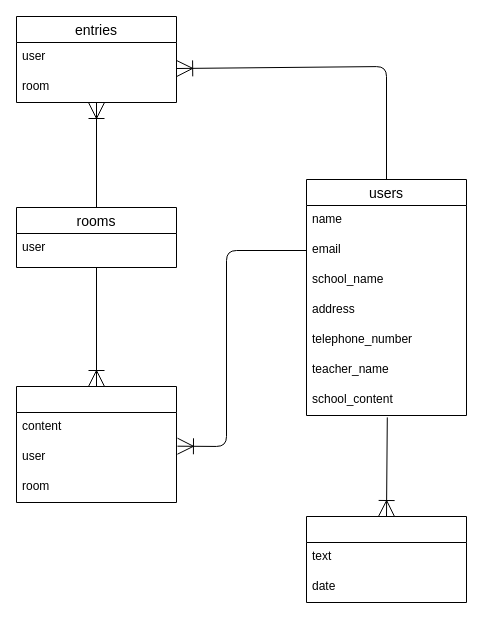
Image size: 483x619. Some labels were removed from this diagram. The shapes that lost their labels are listed below. From the top down, each one's box as (x1, y1, x2, y2) in pixels, then its label:
(16, 386, 176, 502): messages
(306, 516, 466, 602): posts
